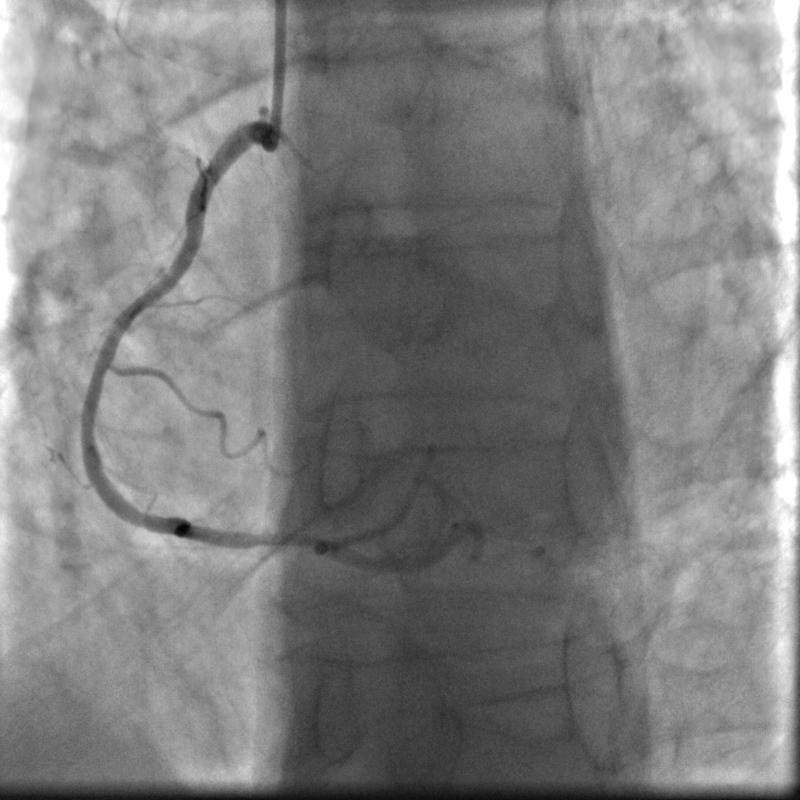Stenosis: (191, 501, 313, 564)
